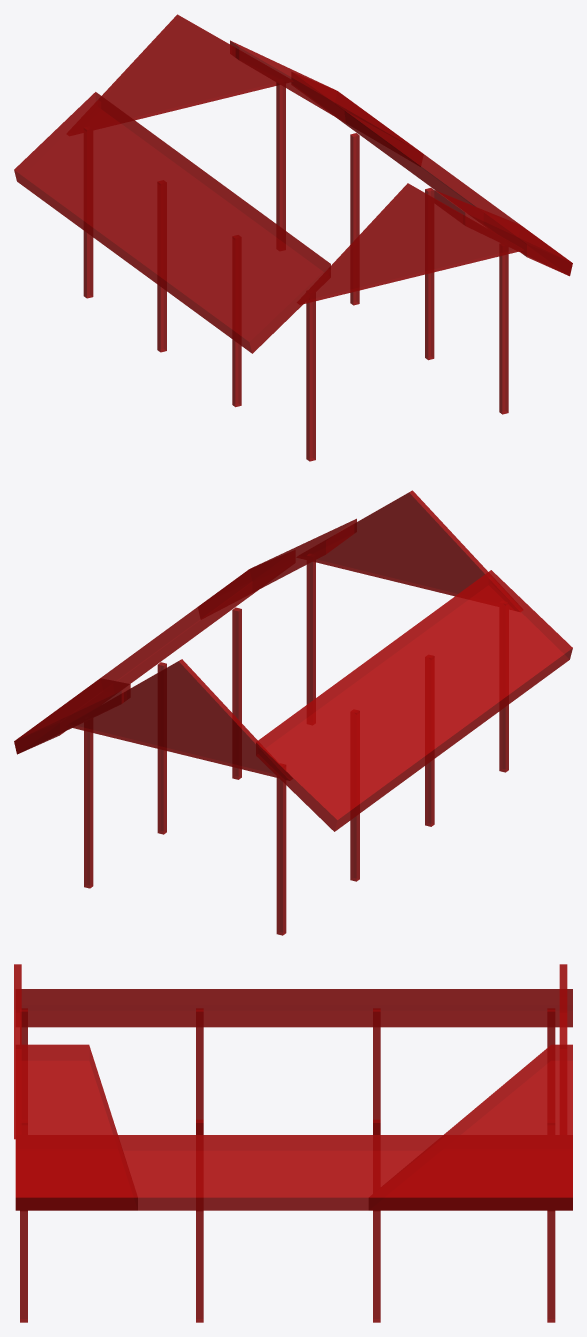
File: SM_Bld_Tent_Shelter_Destroyed_01_Collision.fbx
3 renders of one model, top to bottom at view 1: azimuth 30°, elevation 25°; view 2: azimuth 150°, elevation 25°; view 3: azimuth 270°, elevation 25°, orthographic. The views are drawn at different scales.
Visible parts, largest first — view 1: SM_Bld_Tent_Shelter_Destroyed_01_Collision; view 2: SM_Bld_Tent_Shelter_Destroyed_01_Collision; view 3: SM_Bld_Tent_Shelter_Destroyed_01_Collision.
Part boxes in pixels (x1,y1,x2,y2): SM_Bld_Tent_Shelter_Destroyed_01_Collision: [14, 14, 572, 461]; SM_Bld_Tent_Shelter_Destroyed_01_Collision: [14, 490, 572, 935]; SM_Bld_Tent_Shelter_Destroyed_01_Collision: [14, 964, 572, 1322].
Bounding box in the file's own units: 755 × 566 × 954.
